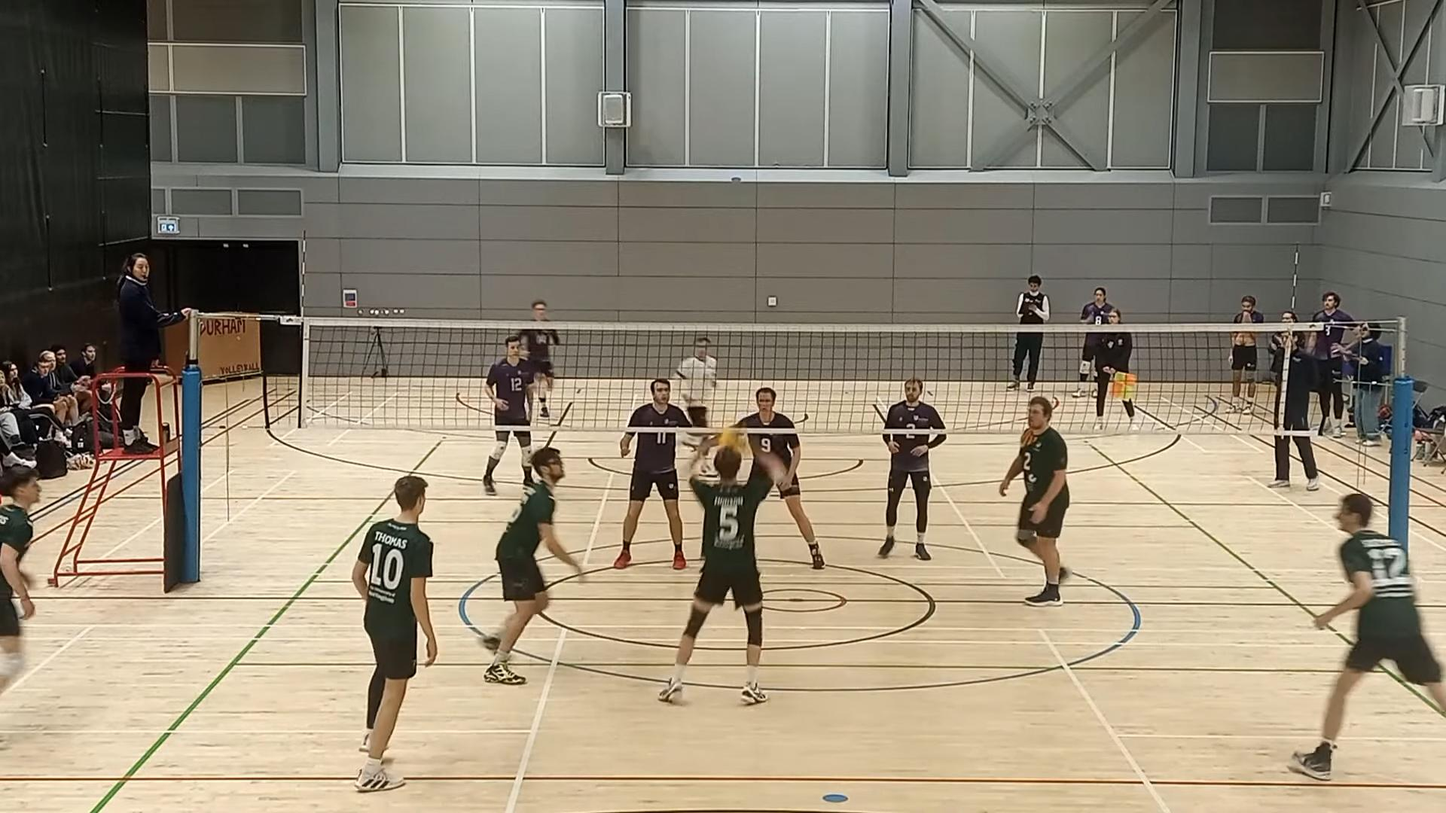Player: (1289, 493, 1445, 780), (352, 475, 437, 791), (483, 446, 581, 684), (736, 387, 825, 569), (614, 378, 691, 569), (999, 397, 1069, 606), (878, 378, 946, 560), (0, 467, 40, 691), (483, 335, 532, 495), (520, 299, 560, 418), (675, 336, 716, 427)
Receive: (659, 424, 789, 716)
ball: (716, 422, 750, 451)
